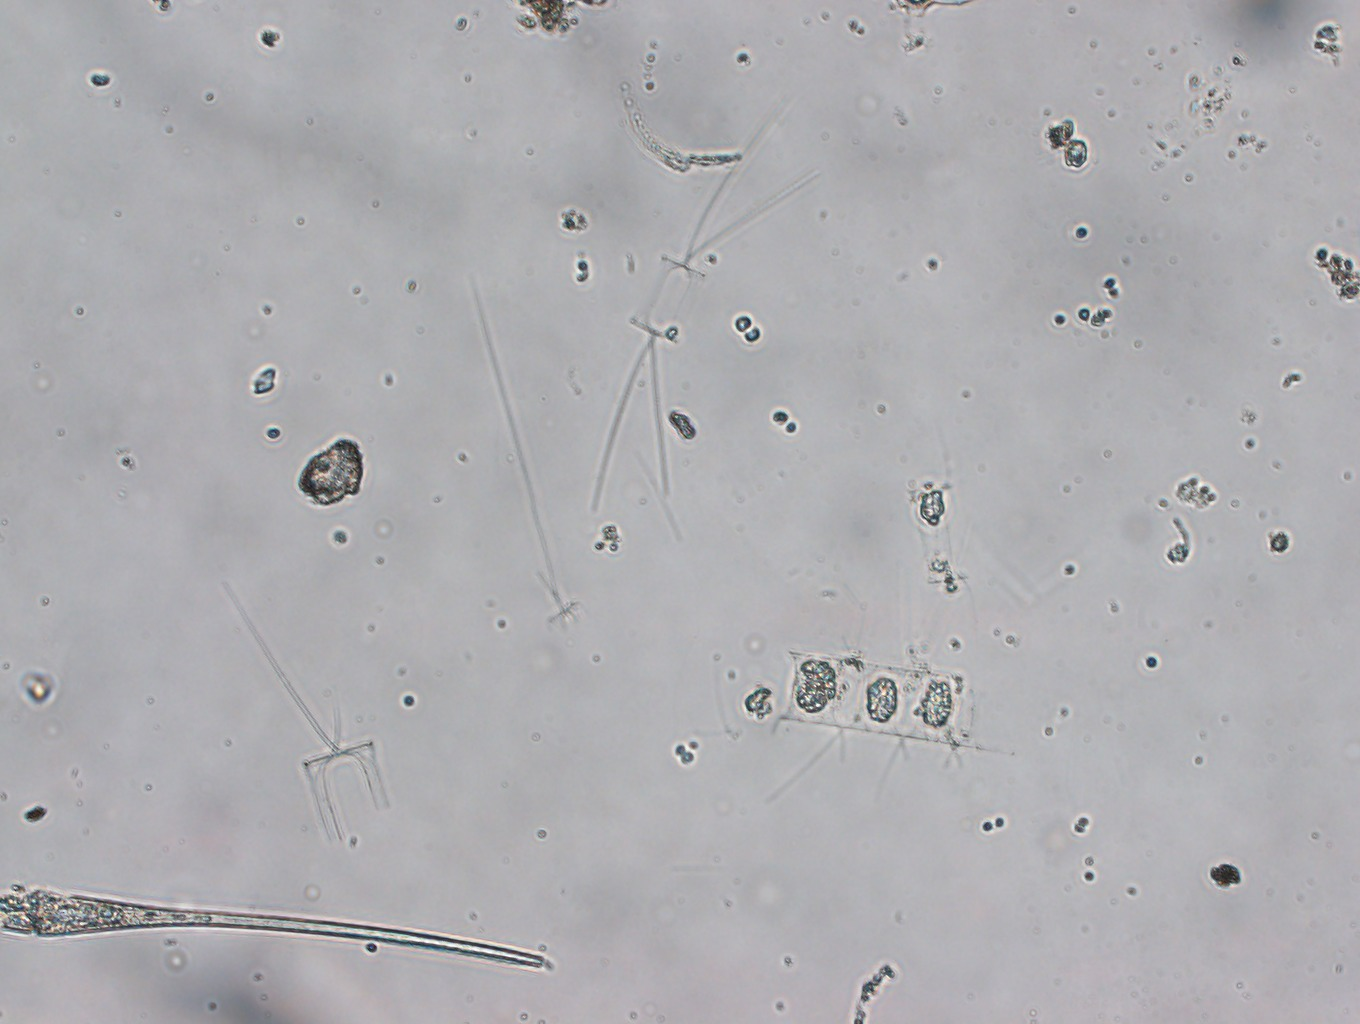ceratium fusus: (1, 874, 560, 978)
chaetoceros: (578, 128, 805, 527), (732, 601, 1013, 800)
